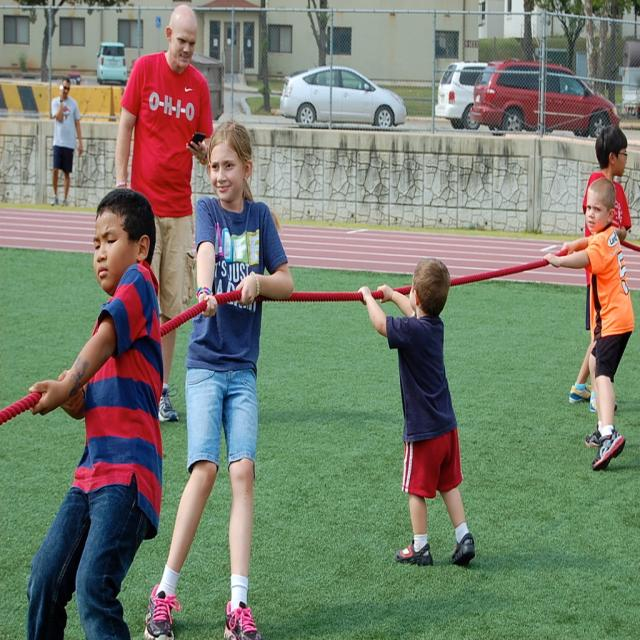car: (467, 57, 616, 131), (272, 53, 411, 130), (435, 59, 486, 126), (93, 42, 123, 80)
